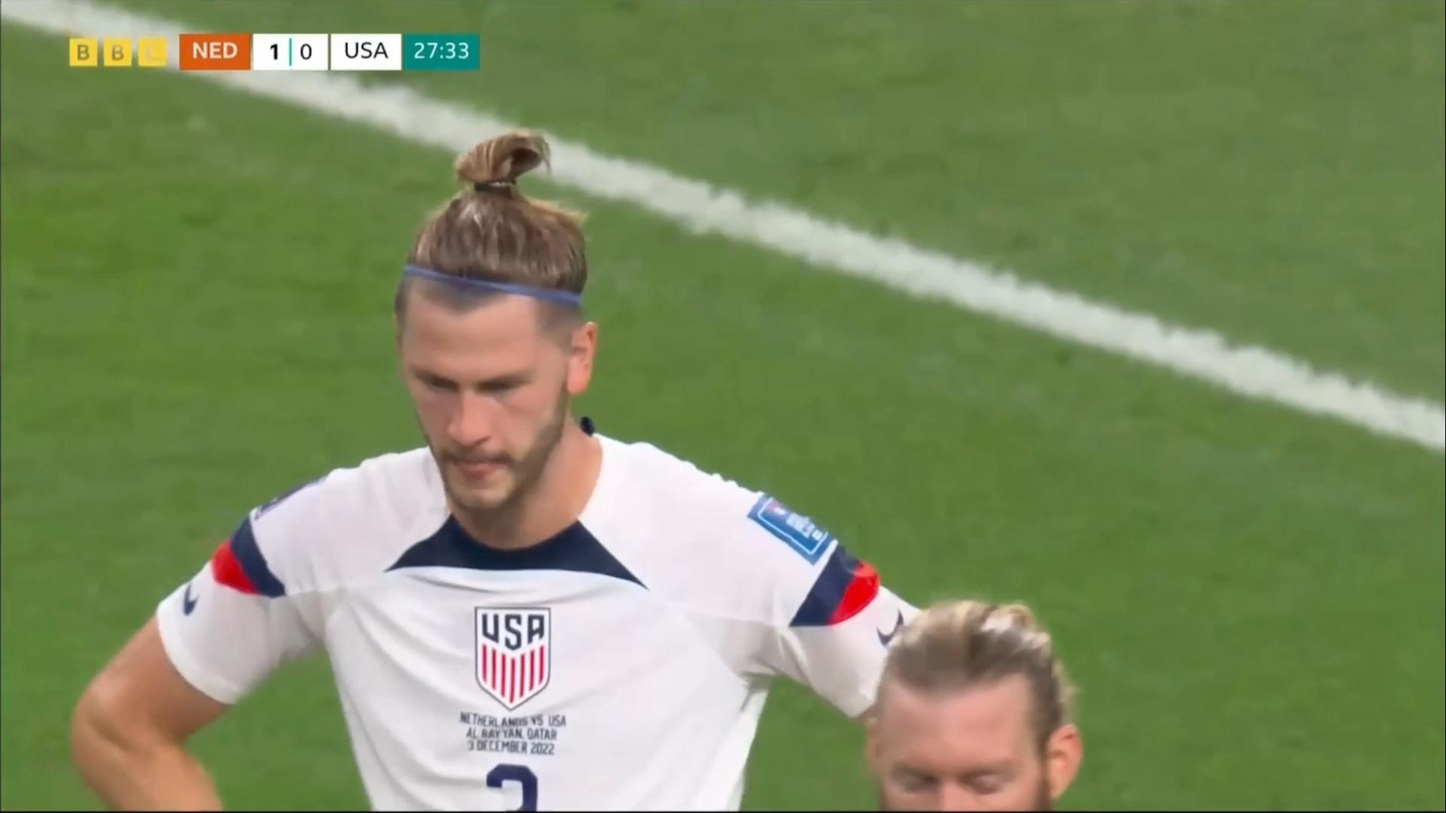Player: (84, 127, 856, 805), (864, 584, 1082, 813)
